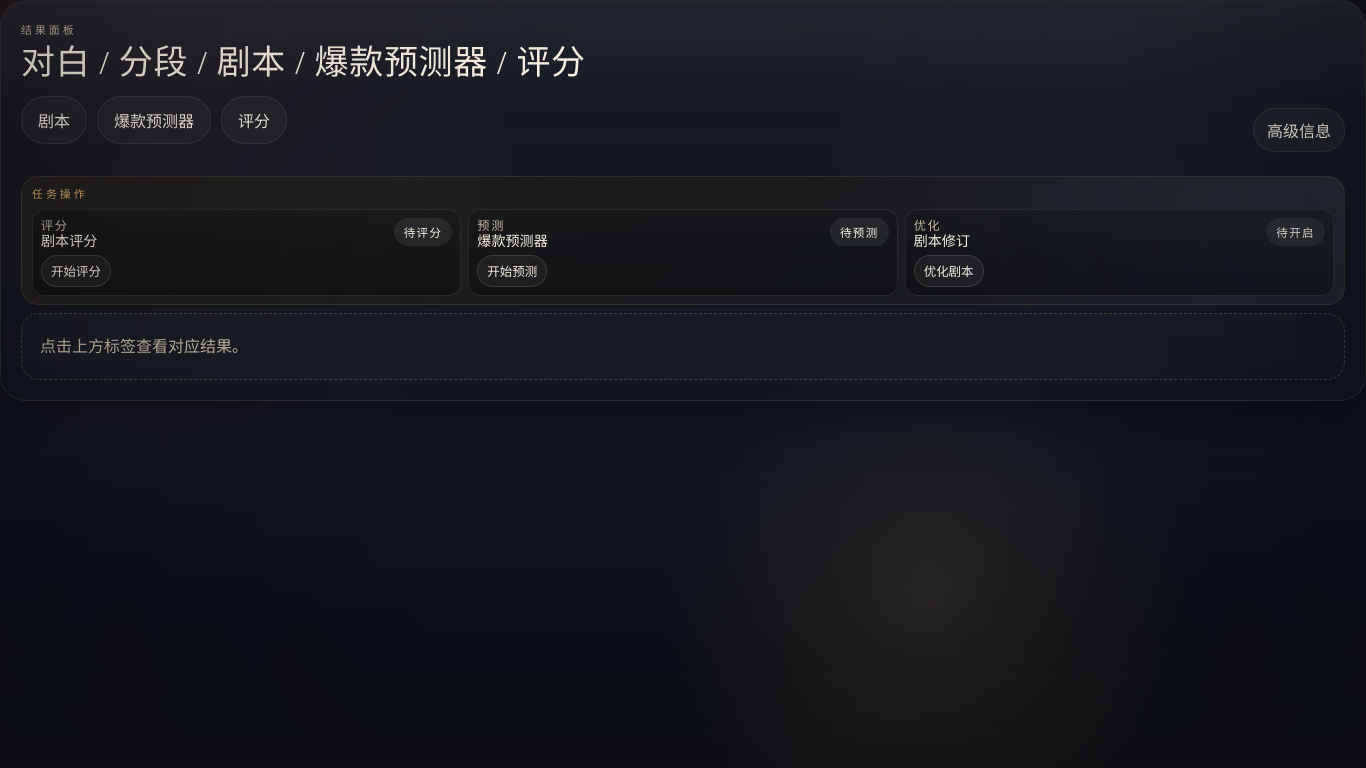
supports switching between latest script and original script
Click the tab "剧本". click: (54, 120)
box: [21,96,87,144]
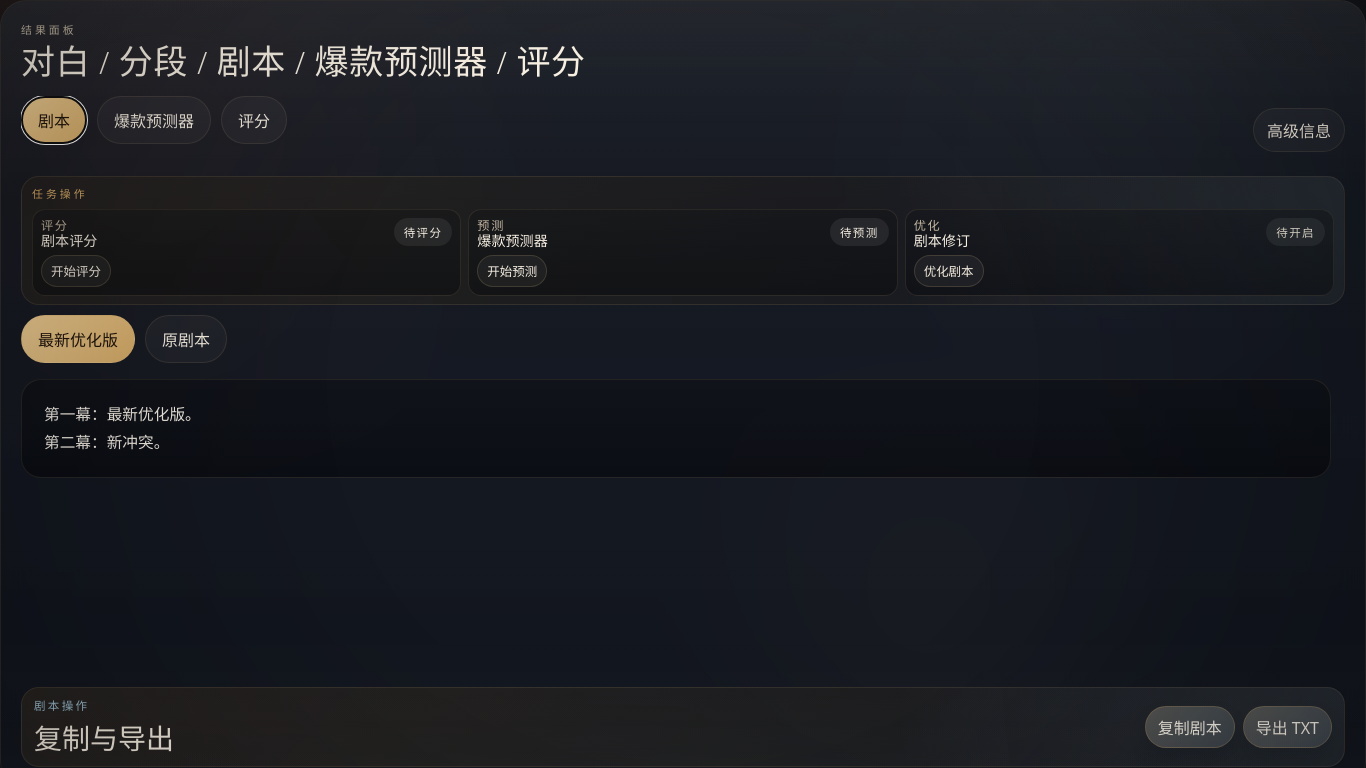
Now the button "最新优化版" is shown, box [21,315,135,363]
Now the button "原剧本" is shown
Now the text "第一幕：最新优化版。 第二幕：新冲突。" is shown, box [21,379,1331,478]
Click the button "原剧本". click: (186, 339)
box: [145,315,227,363]
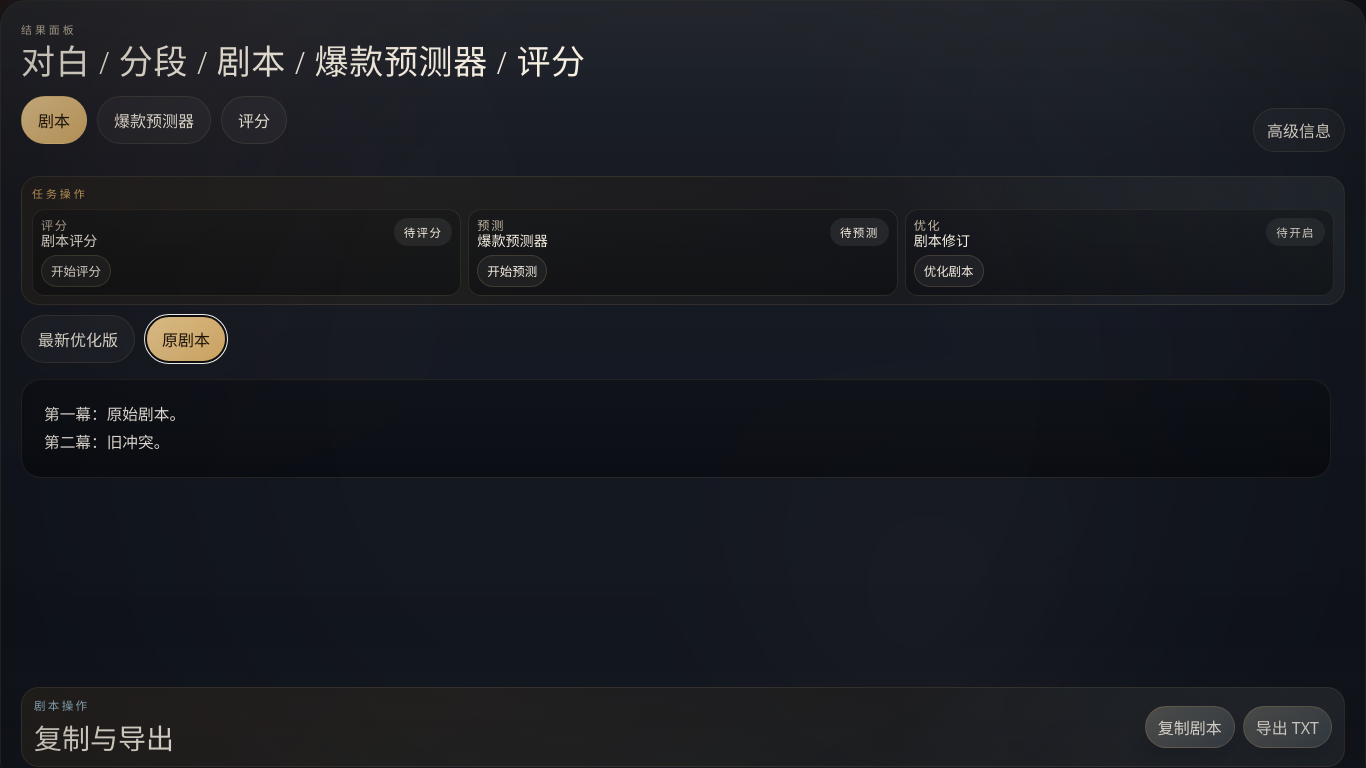
Now the text "第一幕：原始剧本。 第二幕：旧冲突。" is shown, box [21,379,1331,478]
